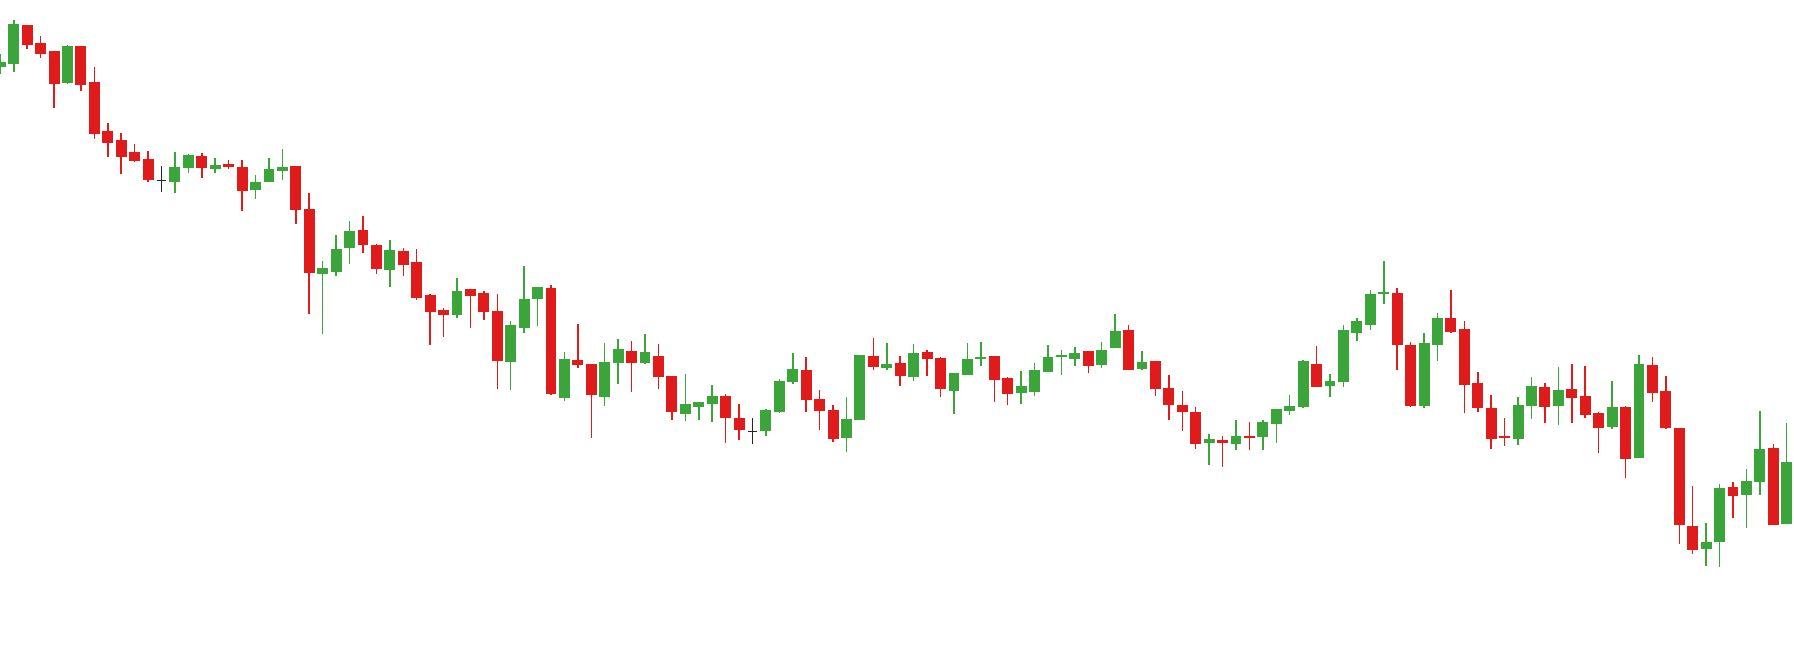buy: (748, 387, 851, 460)
sell: (1564, 355, 1659, 430)
